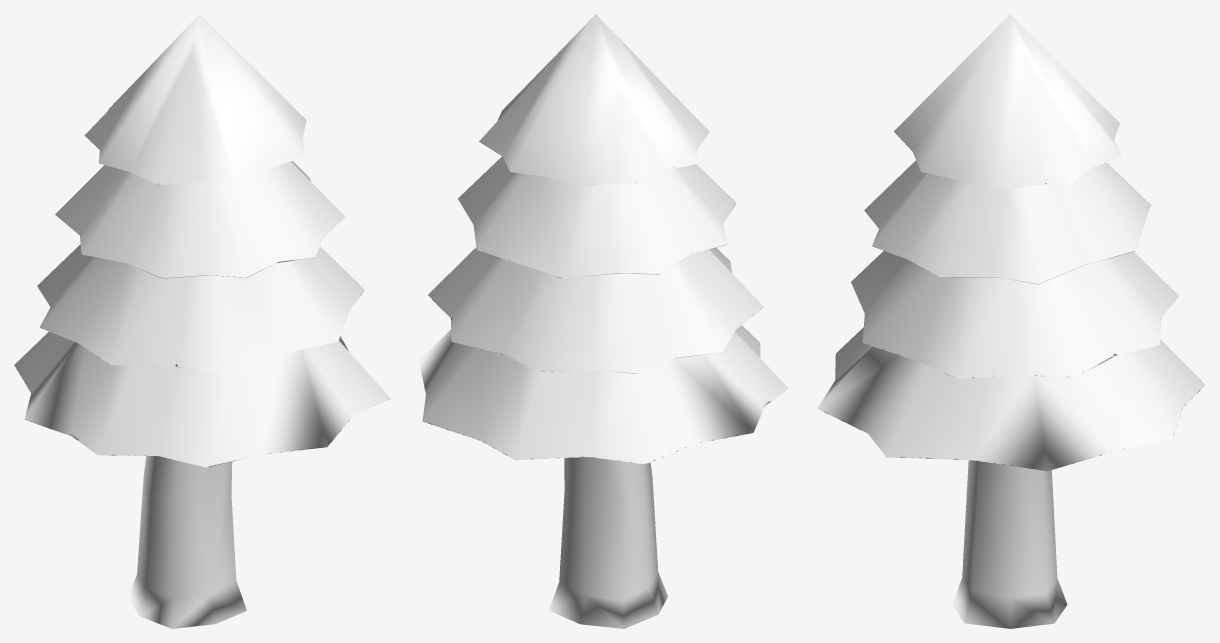
File: tree1_LOD1.fbx
The picture shows the model from 3 angles, left to right: view 1: azimuth 30°, elevation 25°; view 2: azimuth 150°, elevation 25°; view 3: azimuth 270°, elevation 25°; orthographic projection.
Parts seen in each view (by area): view 1: Simplygon_Proxy_7a1bf4c8-8cd4-47d3-bf2f-12ab7ab751cf; view 2: Simplygon_Proxy_7a1bf4c8-8cd4-47d3-bf2f-12ab7ab751cf; view 3: Simplygon_Proxy_7a1bf4c8-8cd4-47d3-bf2f-12ab7ab751cf.
Part boxes in pixels (x1,y1,x2,y2): Simplygon_Proxy_7a1bf4c8-8cd4-47d3-bf2f-12ab7ab751cf: (14,14,390,628); Simplygon_Proxy_7a1bf4c8-8cd4-47d3-bf2f-12ab7ab751cf: (419,14,788,628); Simplygon_Proxy_7a1bf4c8-8cd4-47d3-bf2f-12ab7ab751cf: (817,14,1205,628).
Bounding box in the file's own units: 680 × 1174 × 692.
1 material, 1 textured.
